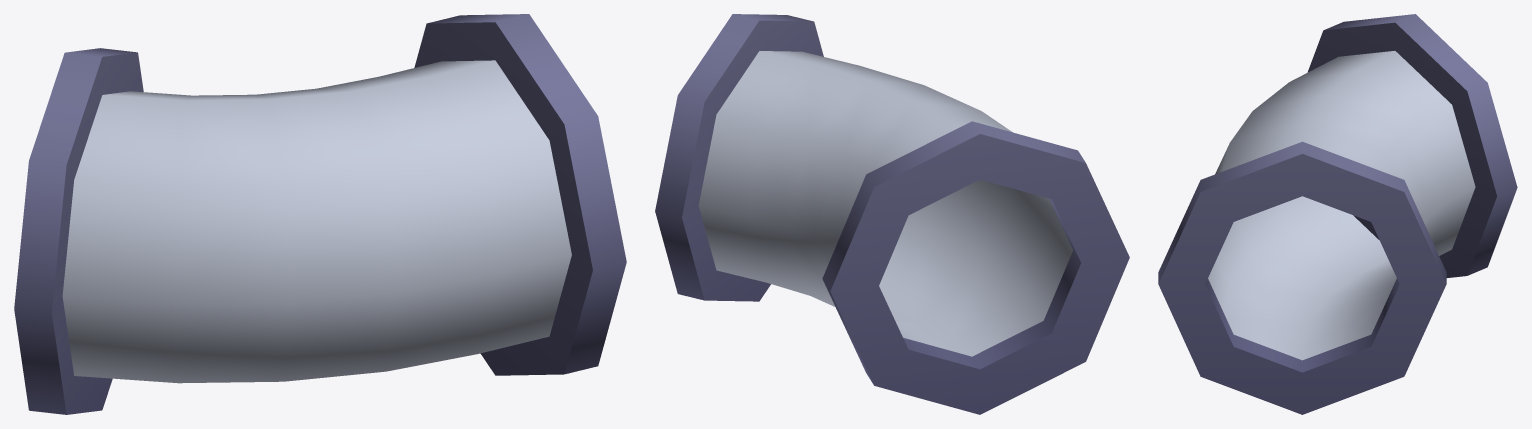
File: kenney-factory-pipe-glass-large-curve.glb
3 views of the same model, side by side, from view 1: azimuth 30°, elevation 25°; view 2: azimuth 150°, elevation 25°; view 3: azimuth 270°, elevation 25° (orthographic). The views are drawn at different scales.
Parts seen in each view (by area): view 1: pipe-glass-large-curve; view 2: pipe-glass-large-curve; view 3: pipe-glass-large-curve.
Part boxes in pixels (bbox=[...]): pipe-glass-large-curve: bbox=[14, 14, 626, 414]; pipe-glass-large-curve: bbox=[655, 14, 1129, 414]; pipe-glass-large-curve: bbox=[1158, 14, 1517, 414].
Size of the model in its own units: 2.25 by 1.5 by 1.87.
Materials: 2 (1 with a texture image).
